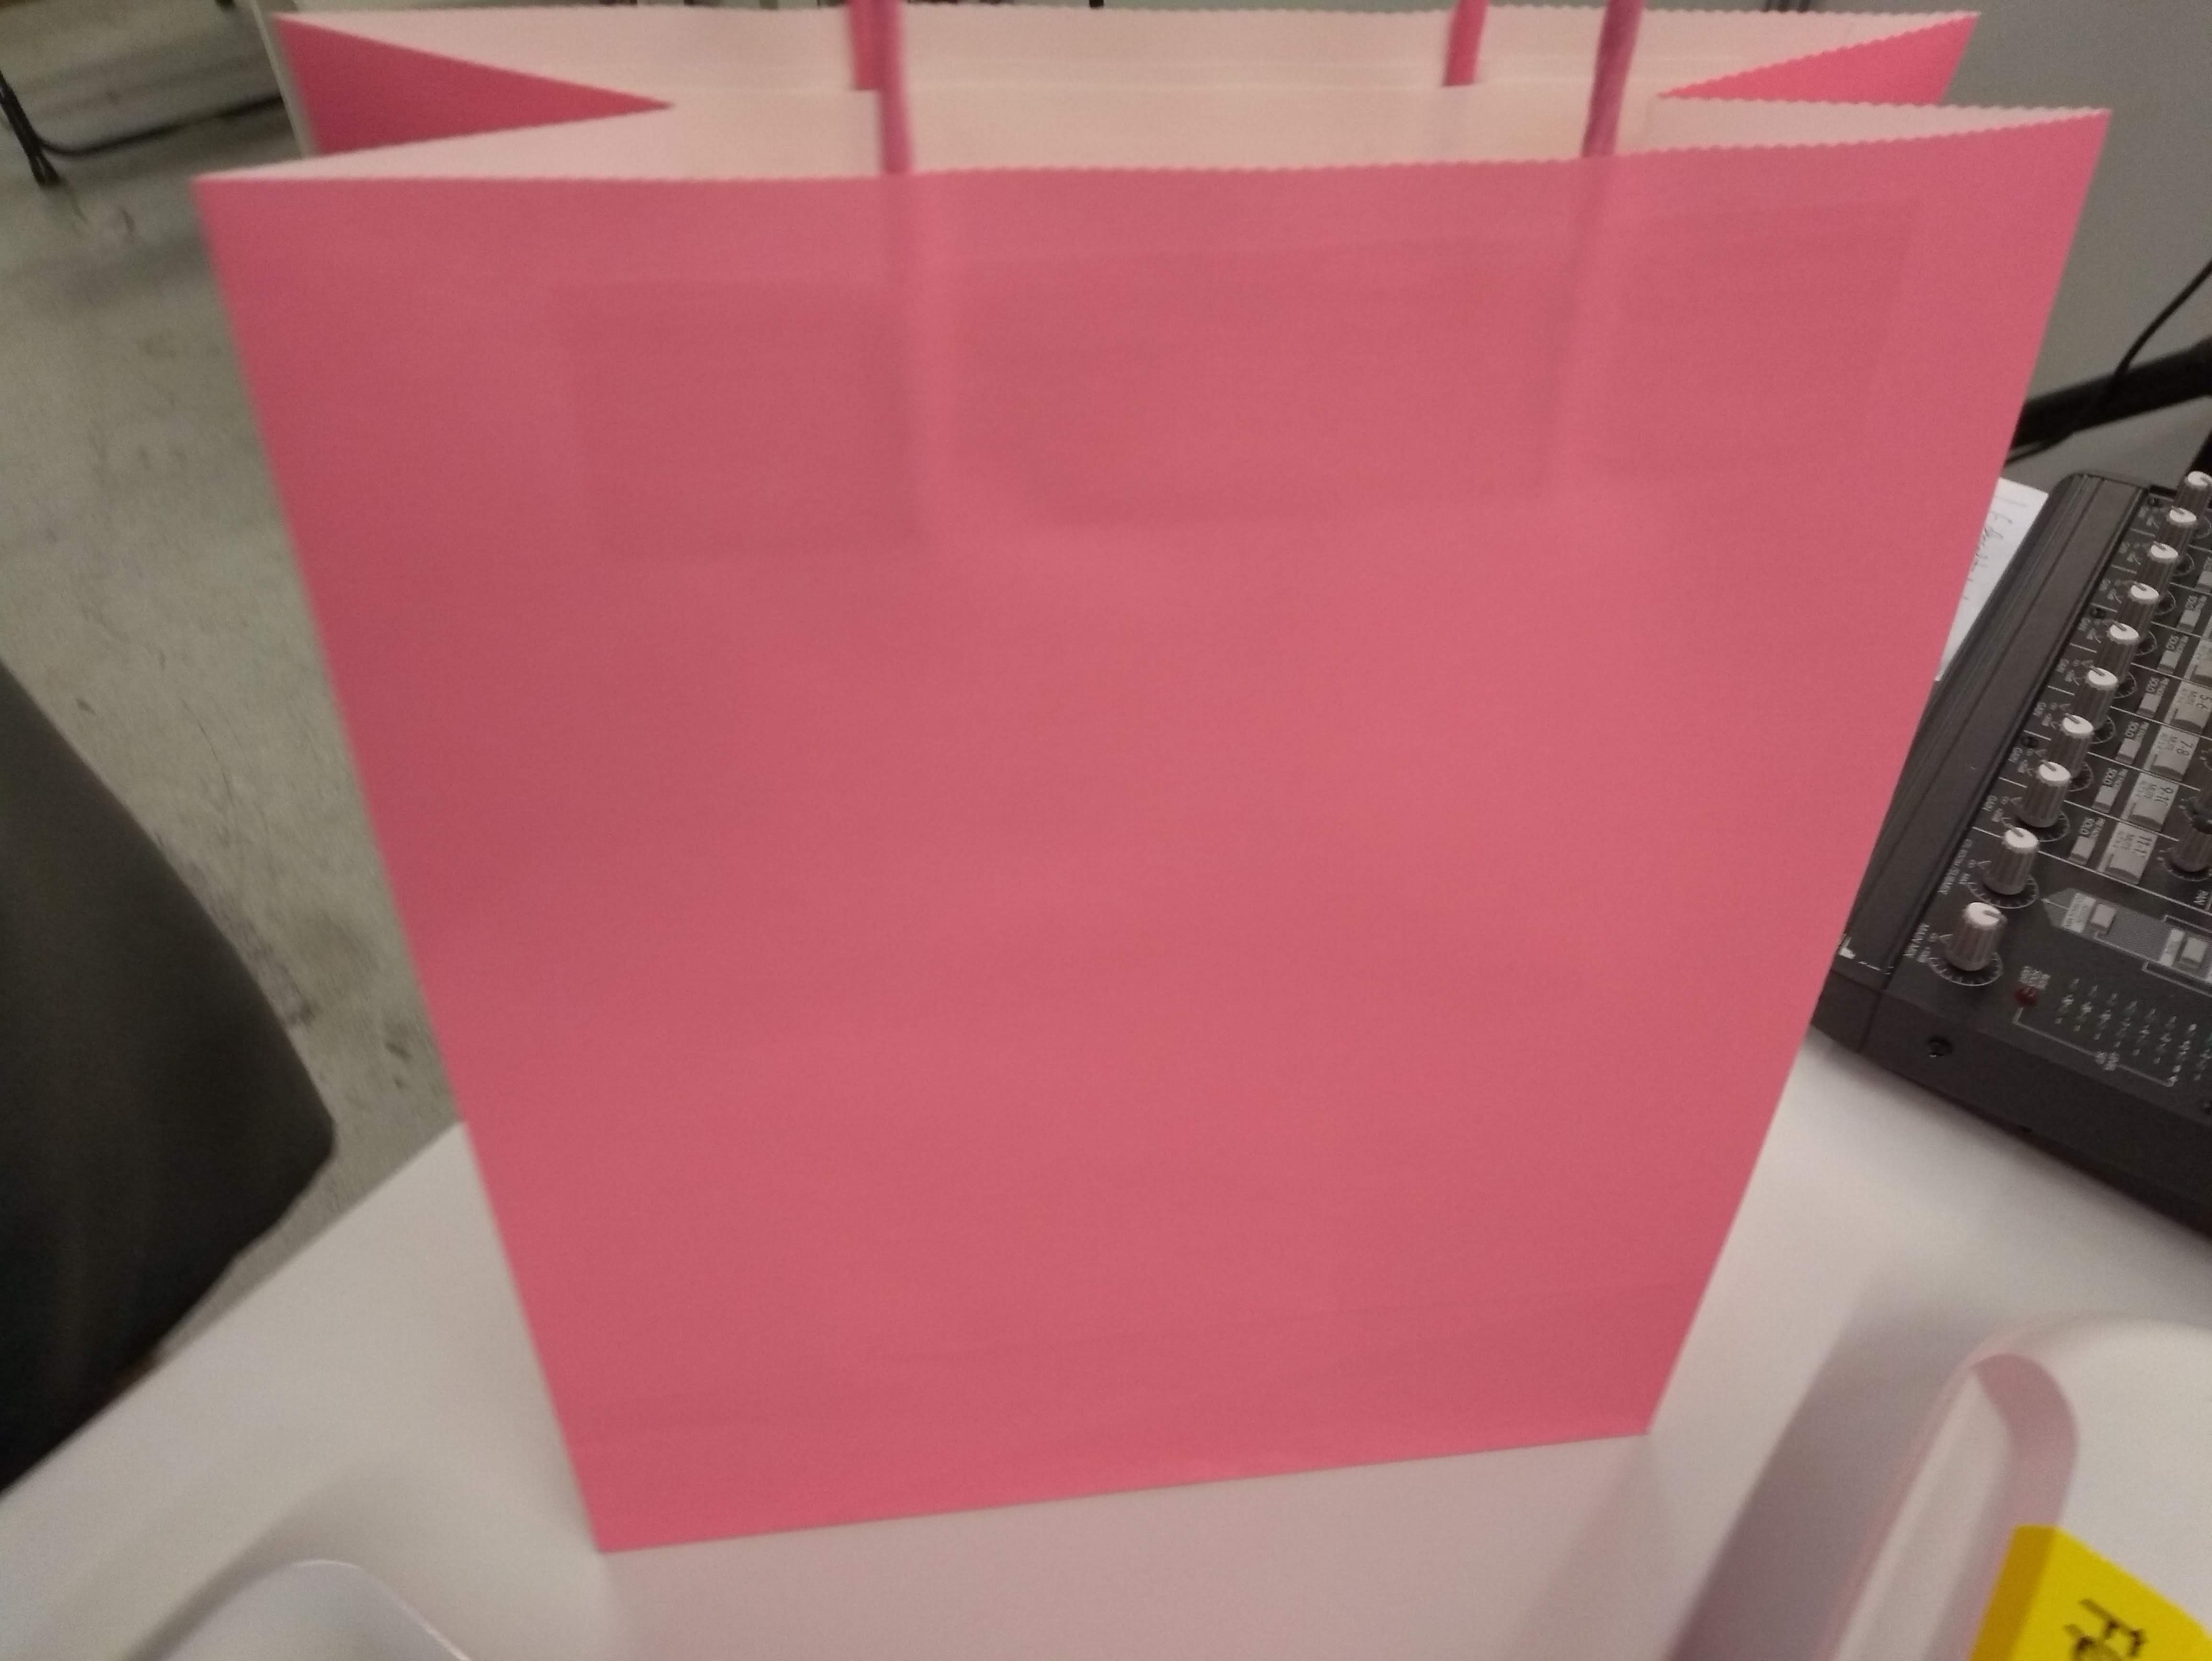help_me_carry_opl: (194, 0, 2114, 1588)
